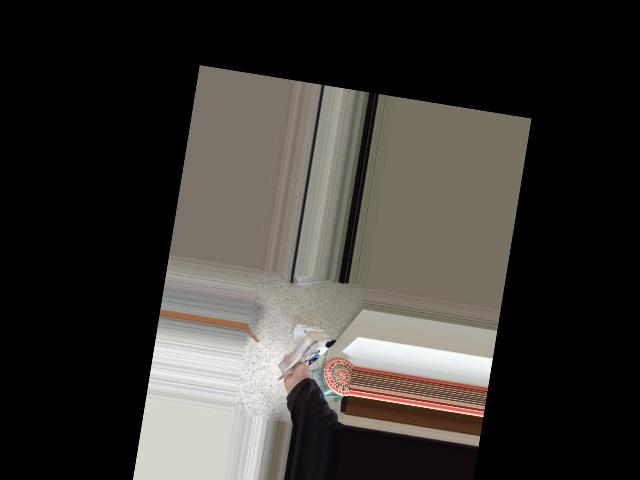cheese: (268, 315, 346, 399)
